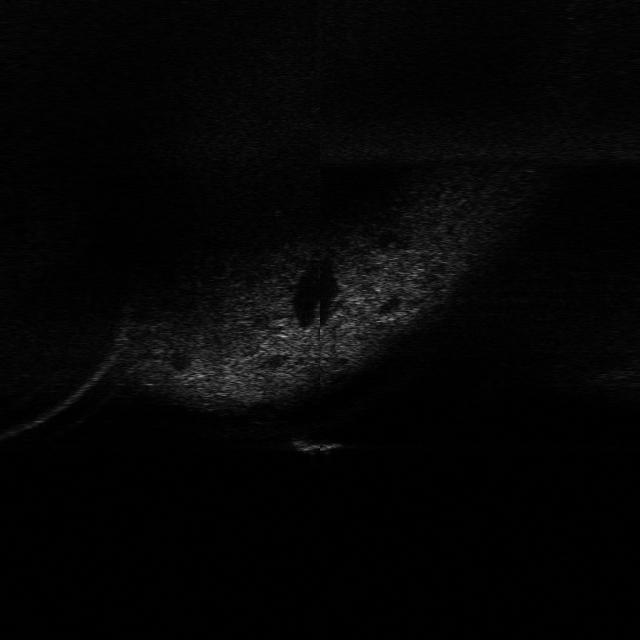cube: (280, 432, 340, 456)
